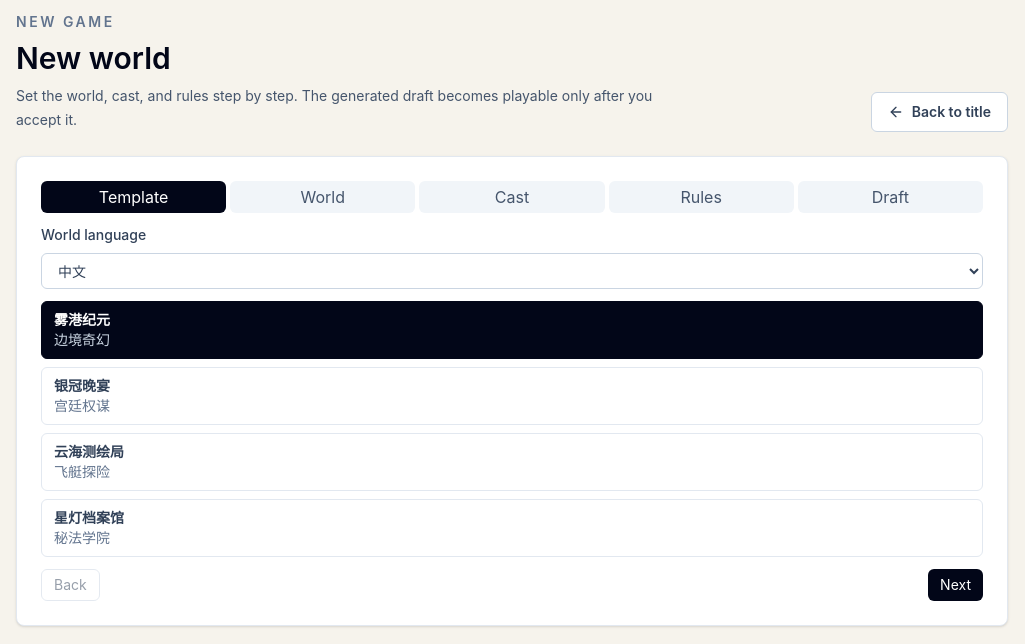
Test case: WorldPage › keeps draft generation visibly active until the job finishes
What coordinates should you click on to do the following:
click the button "Draft"
I would click on:
 (890, 197)
Its box is [798,181,983,213].
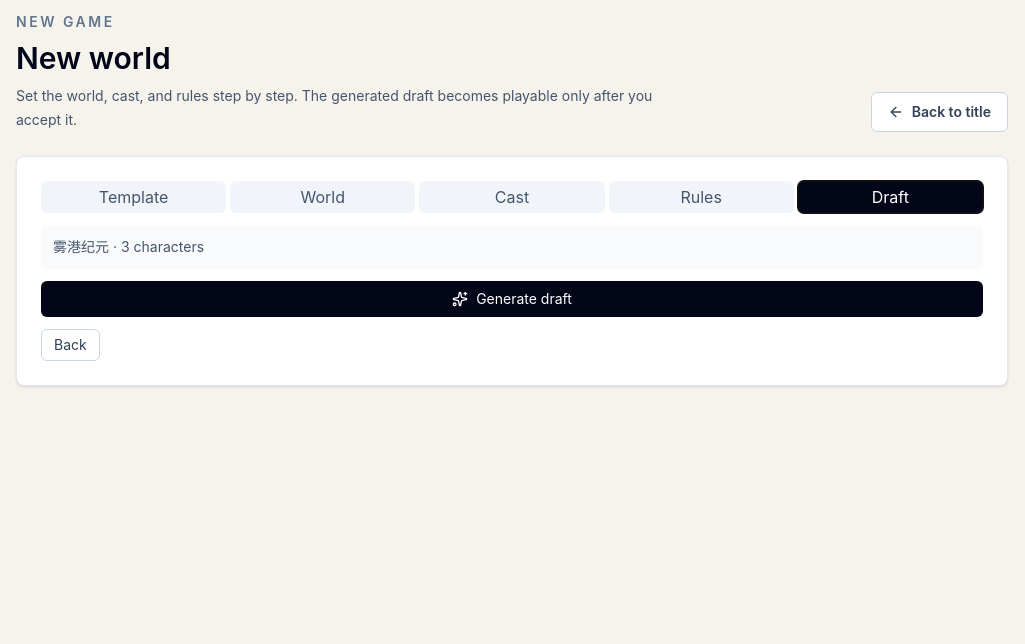
What coordinates should you click on to do the following:
click the button "Generate draft"
I would click on:
 (512, 299)
Its box is [41,281,983,317].
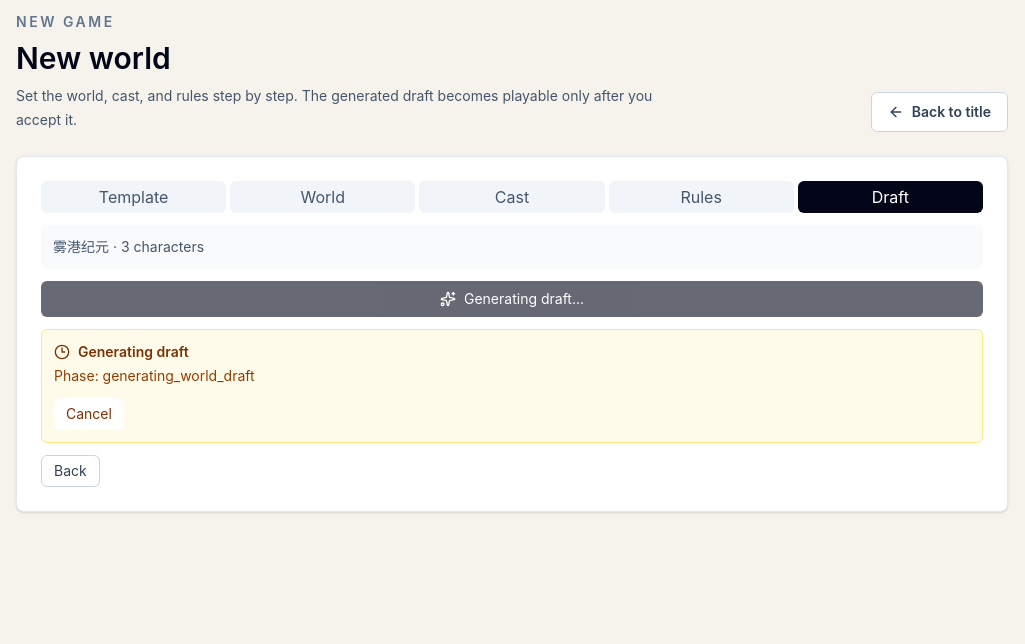
Check: the text "Generating draft" is shown, box [54,343,189,360]
Check: the button "Generating draft..." is disabled, box [41,281,983,317]
Check: the button "Cancel" is enabled, box [54,398,124,430]
